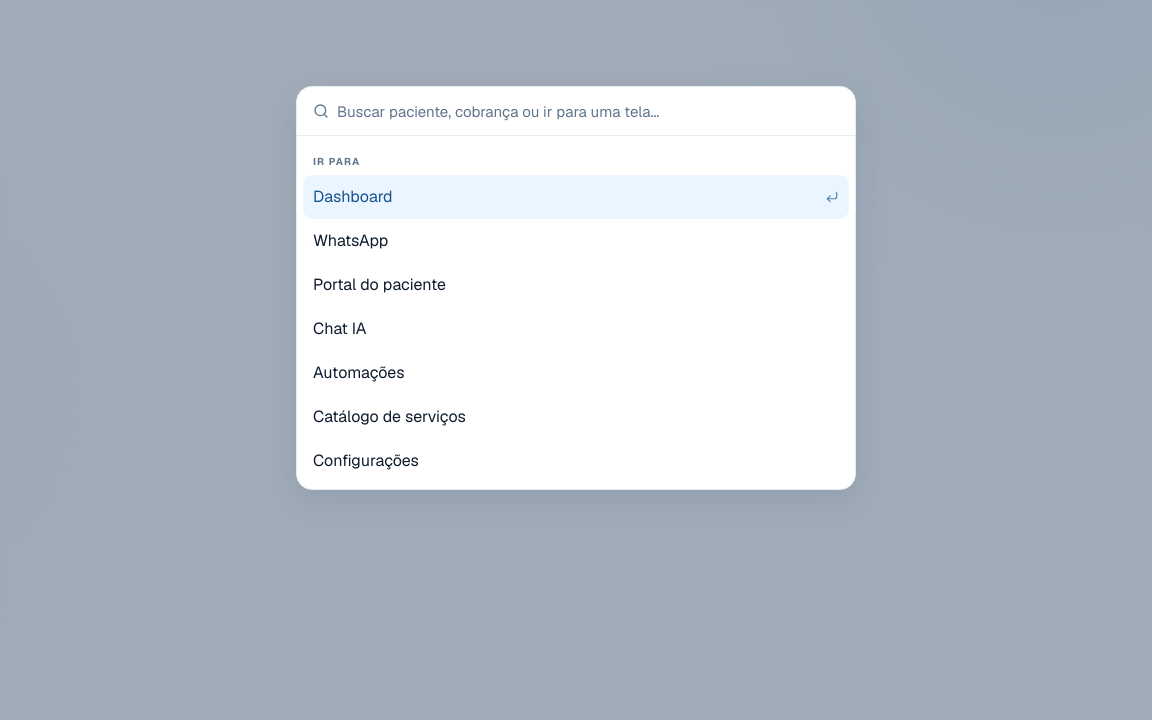
Test: estado vazio › com menos de dois caracteres, ensina o mínimo
The width and height of the screenshot is (1152, 720).
Type "z" into the dropdown at {"x": 588, "y": 111}, box [337, 87, 839, 135]
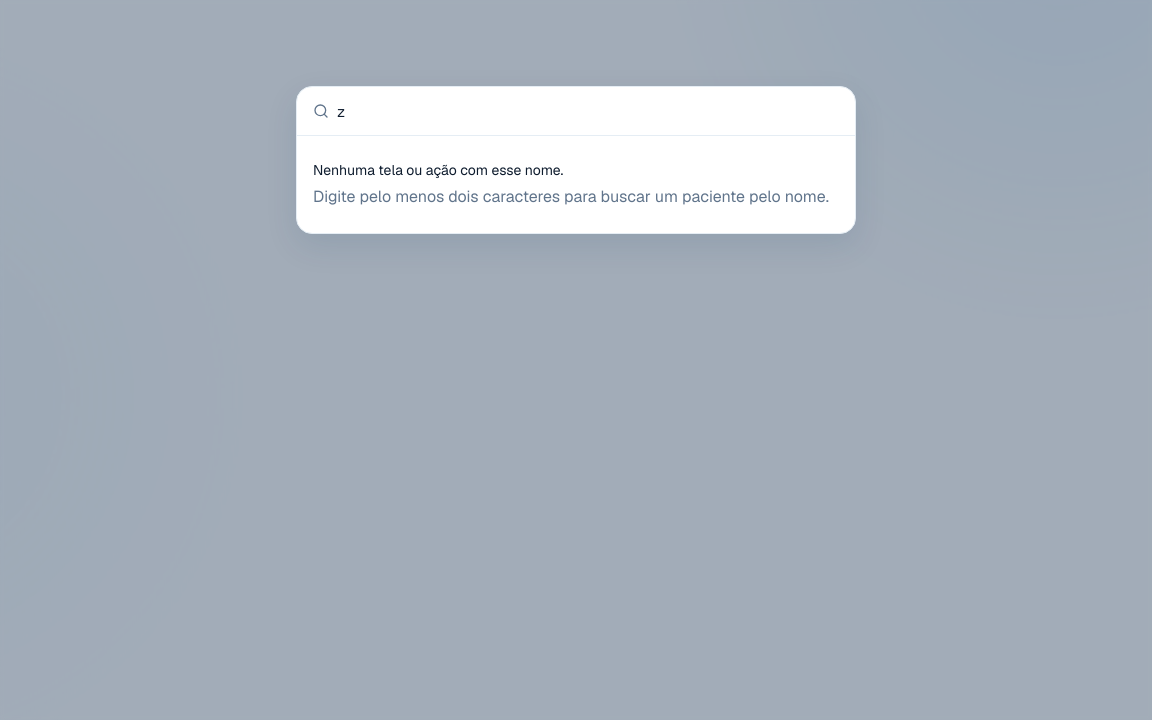
Result: the text "pelo menos dois caracteres" is shown at [313, 186, 829, 207]
